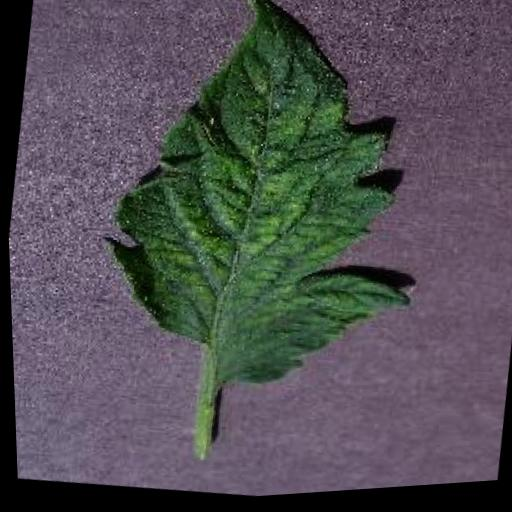Mosaic Virus: (75, 0, 457, 419)
